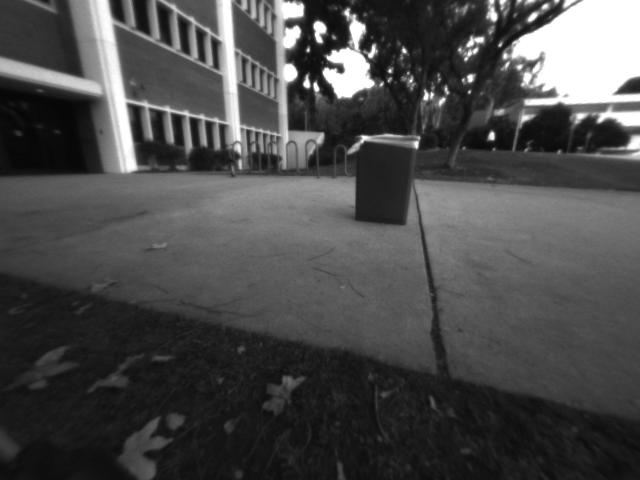trashcan_open: (352, 131, 420, 226)
